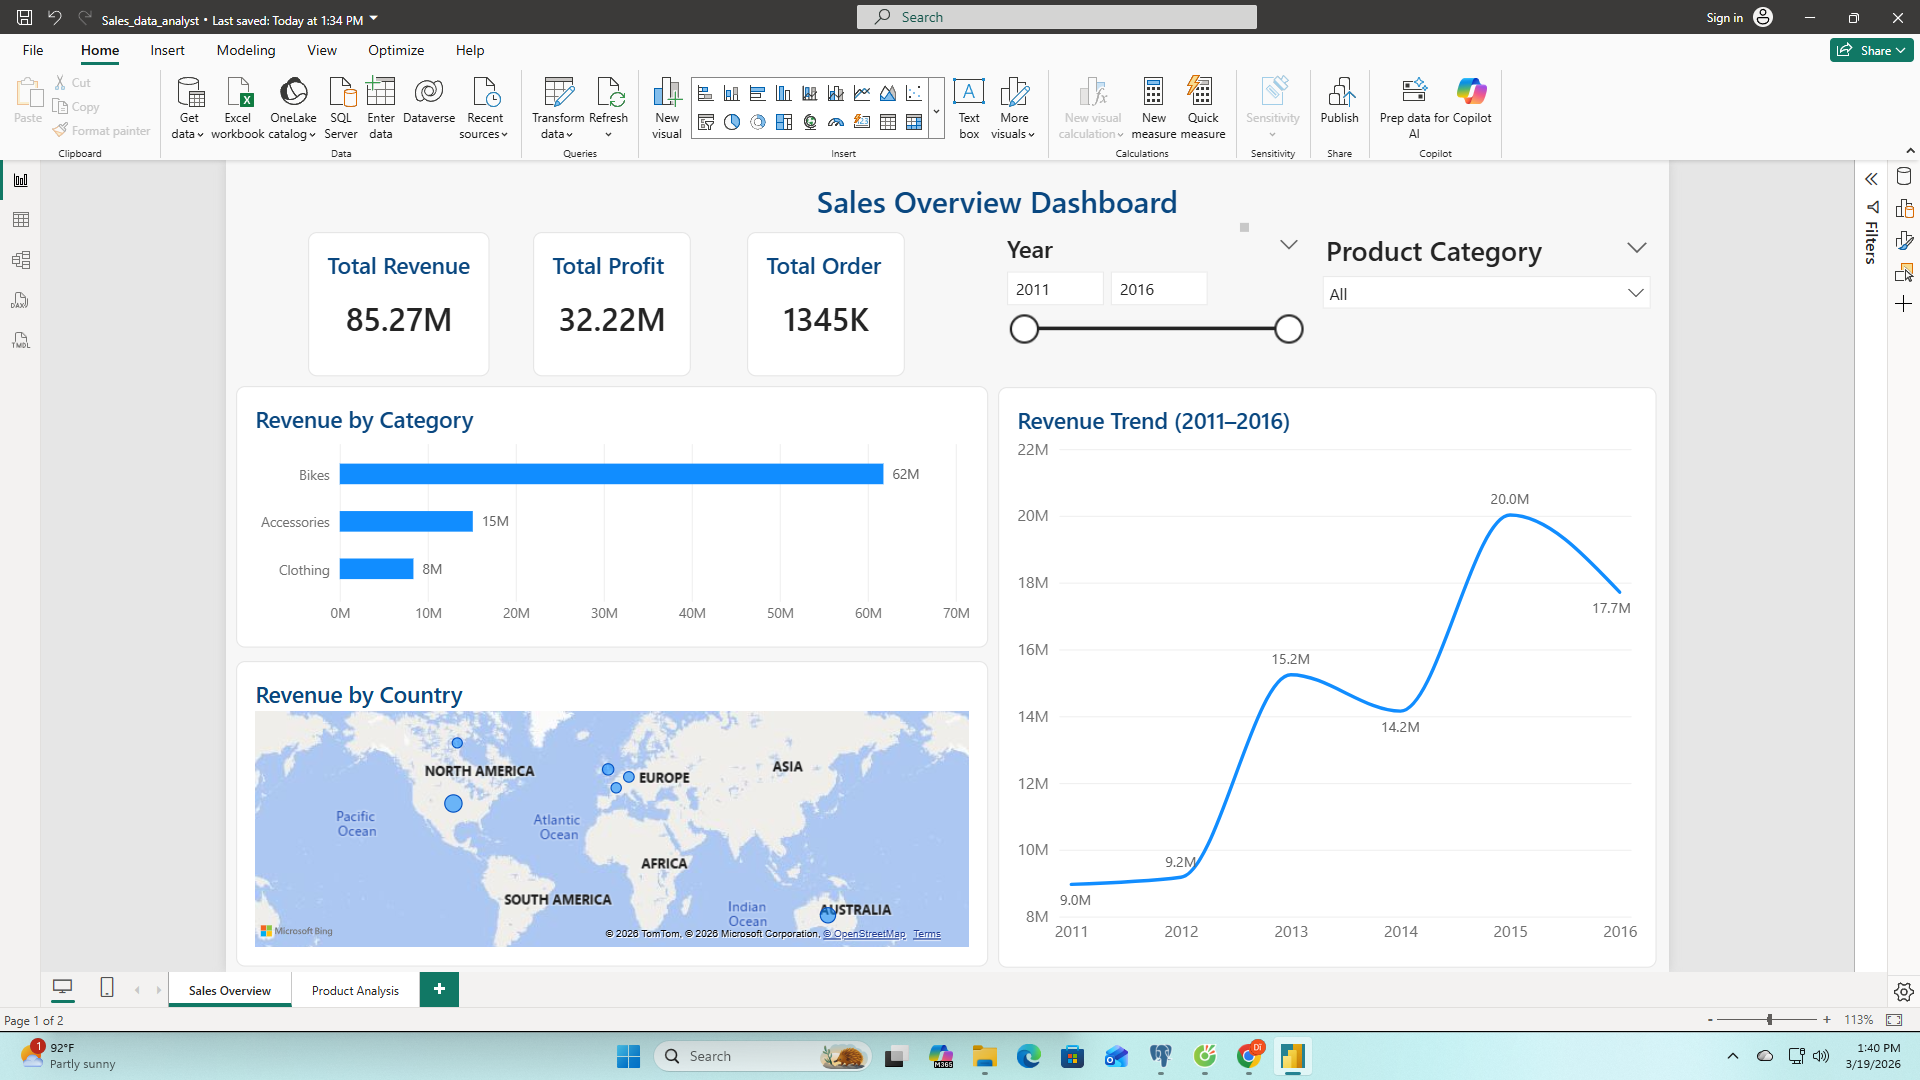

The page's visual inventory and layout, read from the dashboard file:
{"tool":"powerbi","page":{"name":"Sales Overview","canvas":[1280,720],"ordinal":0},"visuals":[{"type":"card","title":"Total Revenue","fields":{"Values":["Sum(public sales_data.revenue)"]},"box":[72.6,63.5,161.3,128],"z":0},{"type":"card","title":"Total Profit","fields":{"Values":["Sum(public sales_data.profit)"]},"box":[272.1,63.5,140.1,128],"z":1000},{"type":"card","title":"Total Order ","fields":{"Values":["Sum(public sales_data.order_quantity)"]},"box":[461.6,63.5,140.1,128],"z":2000},{"type":"lineChart","title":"Revenue Trend (2011–2016)","fields":{"Category":["public sales_data.date.Variation.Date Hierarchy.Year","public sales_data.date.Variation.Date Hierarchy.Quarter","public sales_data.date.Variation.Date Hierarchy.Month","public sales_data.date.Variation.Date Hierarchy.Day"],"Y":["Sum(public sales_data.revenue)"]},"box":[684.1,200.9,584.2,514.6],"z":3000},{"type":"clusteredBarChart","title":"Revenue by Category","fields":{"Category":["public sales_data.product_category"],"Y":["Sum(public sales_data.revenue)"]},"box":[9.1,200.6,667.2,231.8],"z":4000},{"type":"map","title":"Revenue by Country","fields":{"Category":["public sales_data.country"],"Size":["Sum(public sales_data.revenue)"]},"box":[9.1,444.5,667.2,271.1],"z":5000},{"type":"slicer","fields":{"Values":["public sales_data.year"]},"box":[684.1,63.9,274.1,159.1],"z":6000},{"type":"slicer","fields":{"Values":["public sales_data.product_category"]},"box":[967.5,63.9,300.8,152.2],"z":7000},{"type":"textbox","title":"Sales Overview Dashboard","box":[461.1,17.4,446,46.5],"z":8000}]}

Visuals, with their boxes on the page's 1280x720 design canvas (x1, y1, x2, y2). These are canvas units, not pixel positions in the 1920x1080 screenshot, which may show the page scaled, cropped or inside an application window:
"Total Revenue" card: bbox(73, 64, 234, 192)
"Total Profit" card: bbox(272, 64, 412, 192)
"Total Order " card: bbox(462, 64, 602, 192)
"Revenue Trend (2011–2016)" lineChart: bbox(684, 201, 1268, 716)
"Revenue by Category" clusteredBarChart: bbox(9, 201, 676, 432)
"Revenue by Country" map: bbox(9, 444, 676, 716)
slicer - public sales_data.year: bbox(684, 64, 958, 223)
slicer - public sales_data.product_category: bbox(968, 64, 1268, 216)
"Sales Overview Dashboard" textbox: bbox(461, 17, 907, 64)
